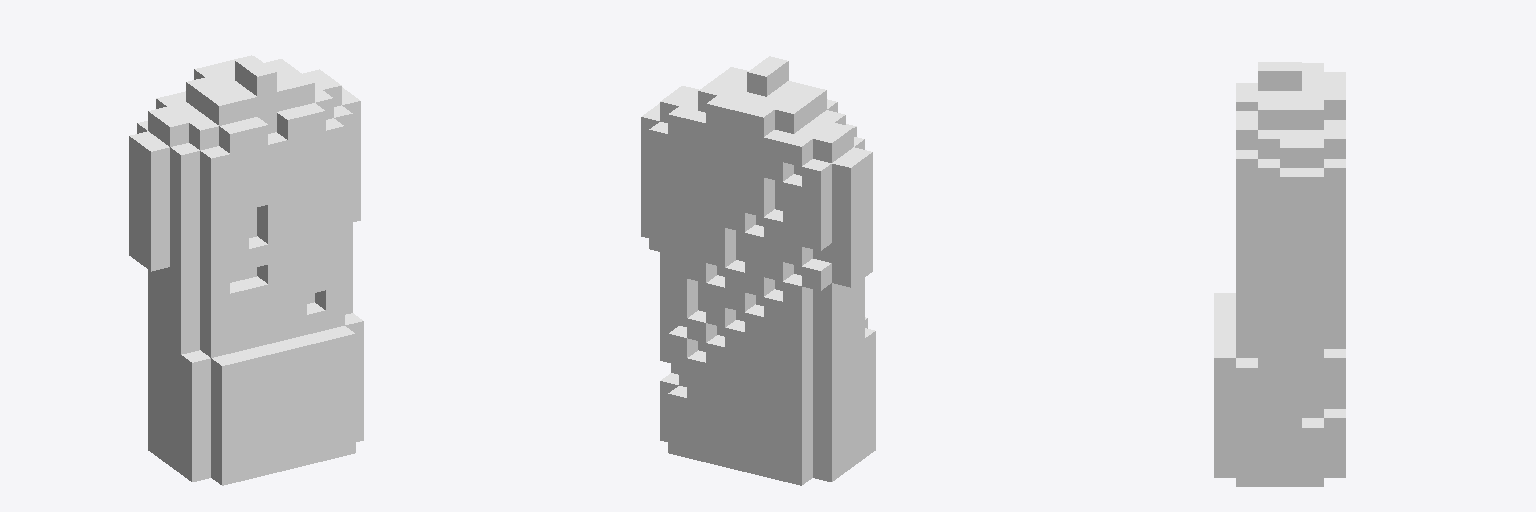
Rendered from Zed_2-0.obj.
3 renders of one model, left to right at view 1: azimuth 30°, elevation 25°; view 2: azimuth 150°, elevation 25°; view 3: azimuth 270°, elevation 25°, orthographic.
Parts seen in each view (by area): view 1: object 1; view 2: object 1; view 3: object 1.
Part boxes in pixels (x1,y1,x2,y2): object 1: (129,55,363,485); object 1: (641,56,875,485); object 1: (1214,62,1345,486).
Bounding box in the file's own units: 1.1 × 1.9 × 0.6.